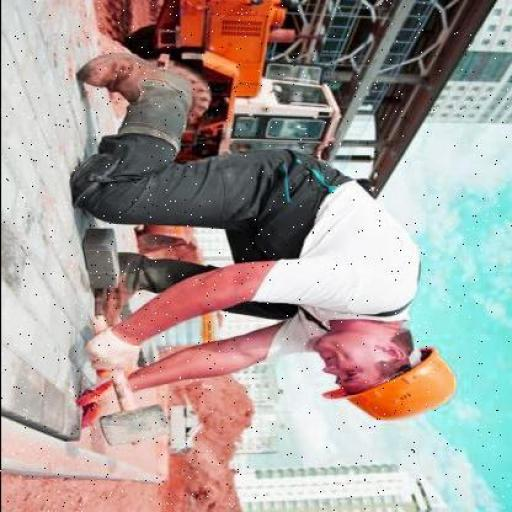person: (64, 32, 458, 448)
safety_shoe: (72, 47, 195, 150), (87, 248, 154, 326)
